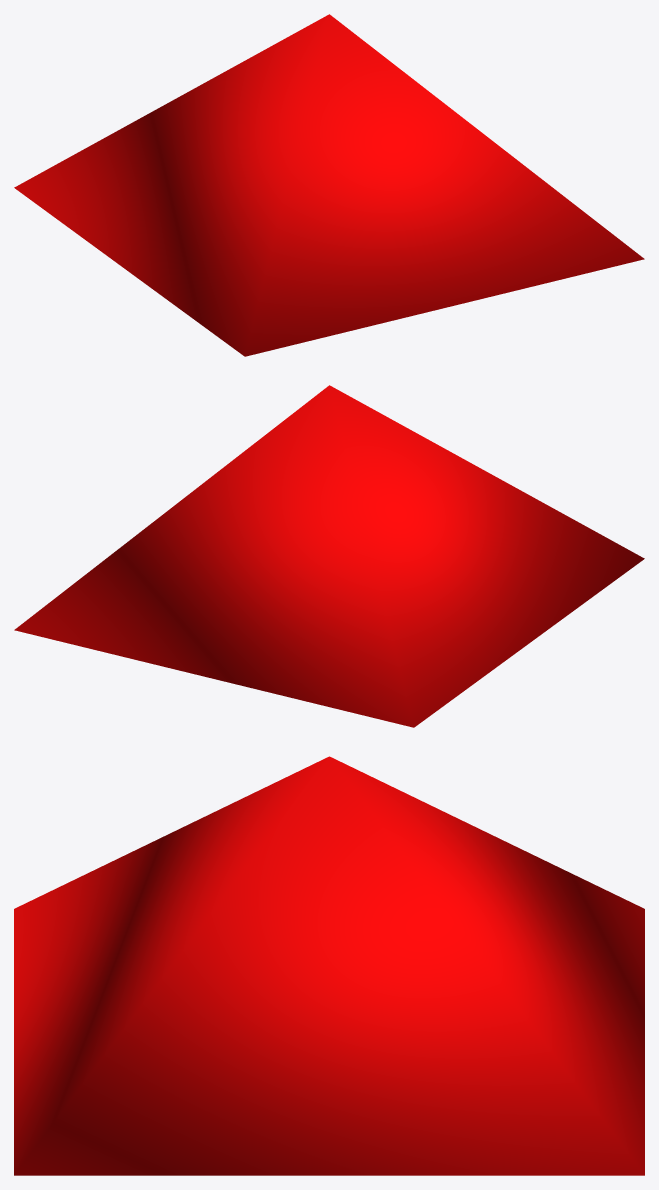
3 views of the same model, one above another, from view 1: azimuth 30°, elevation 25°; view 2: azimuth 150°, elevation 25°; view 3: azimuth 270°, elevation 25° (orthographic). The views are drawn at different scales.
Parts seen in each view (by area): view 1: Pyramid; view 2: Pyramid; view 3: Pyramid.
Boxes of the visible parts, x1,y1,x2,y2 form: Pyramid: (14,14,644,356); Pyramid: (14,385,644,727); Pyramid: (14,756,644,1175).
Bounding box in the file's own units: 2 × 2 × 1.
